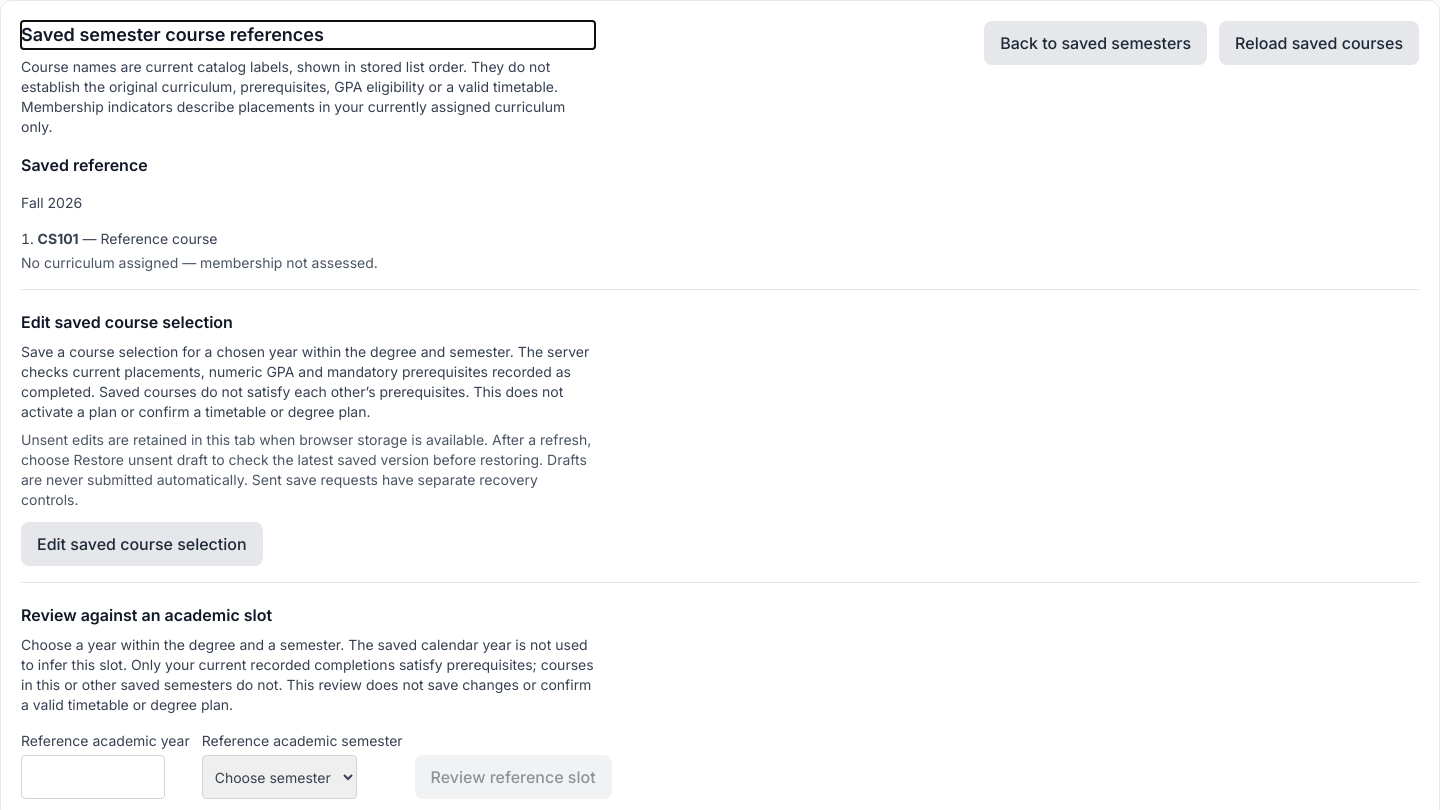
Test: saved semester course references › mounts review only after confirmed references and hides all evidence on session invalidation
Expected: the text "CS101 — Reference course" is shown, [38,230,218,247]
Type "2" into the number field labelled "Reference academic year" at coordinates (93, 777), box [21,755,165,799]
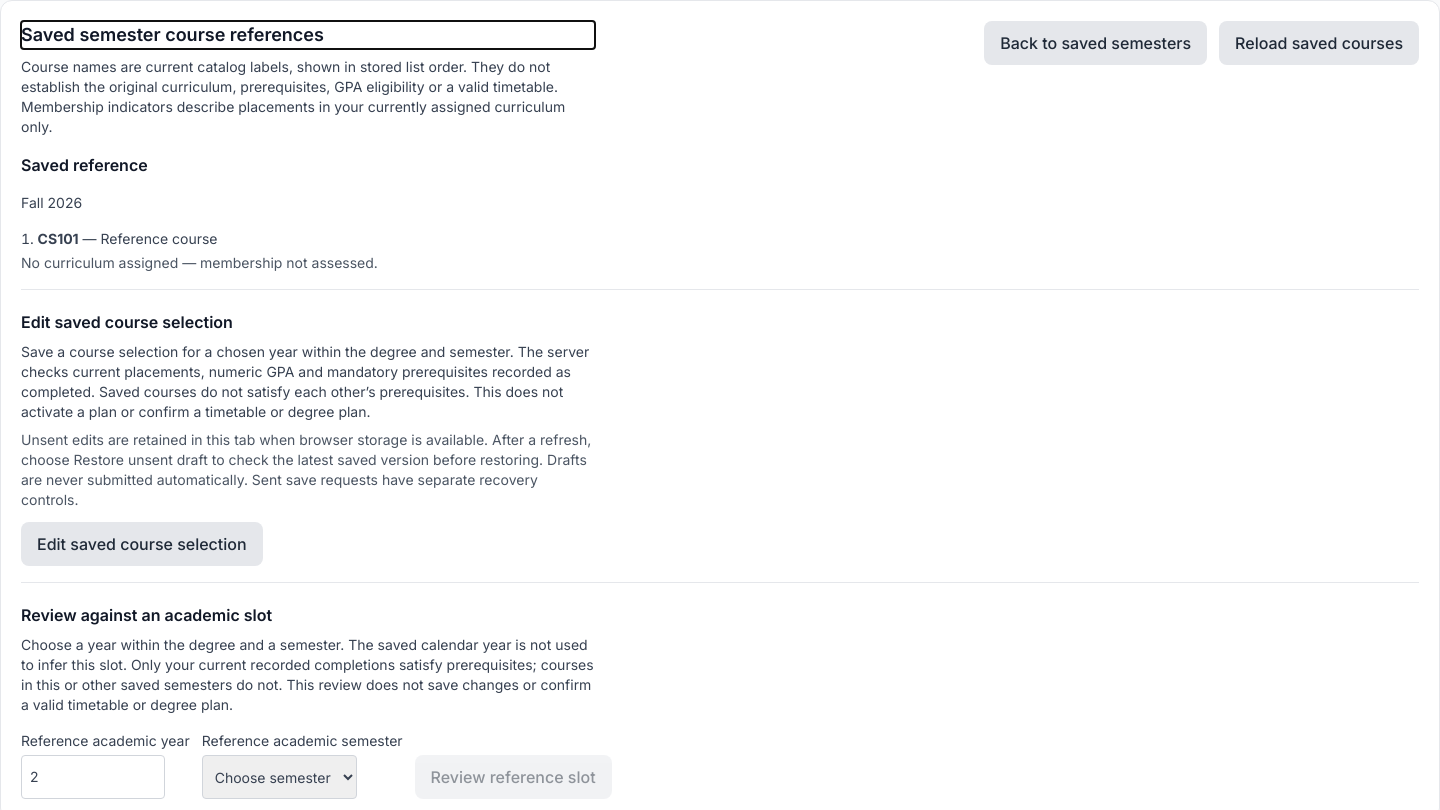
Select "Semester 1" in the dropdown labelled "Reference academic semester" at coordinates (279, 777), box [202,755,357,799]
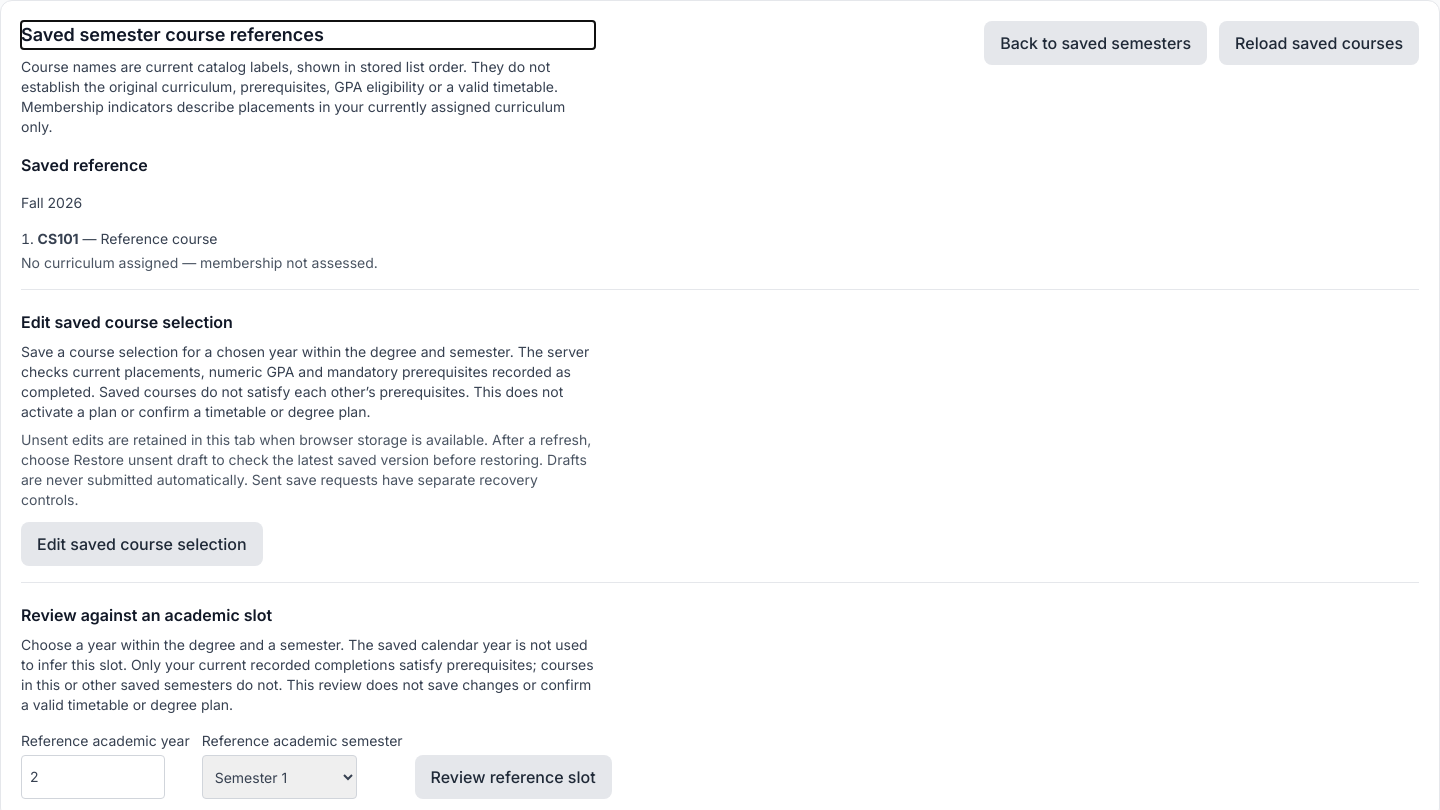
Click the button "Review reference slot" at coordinates (513, 777), box [415,755,612,799]
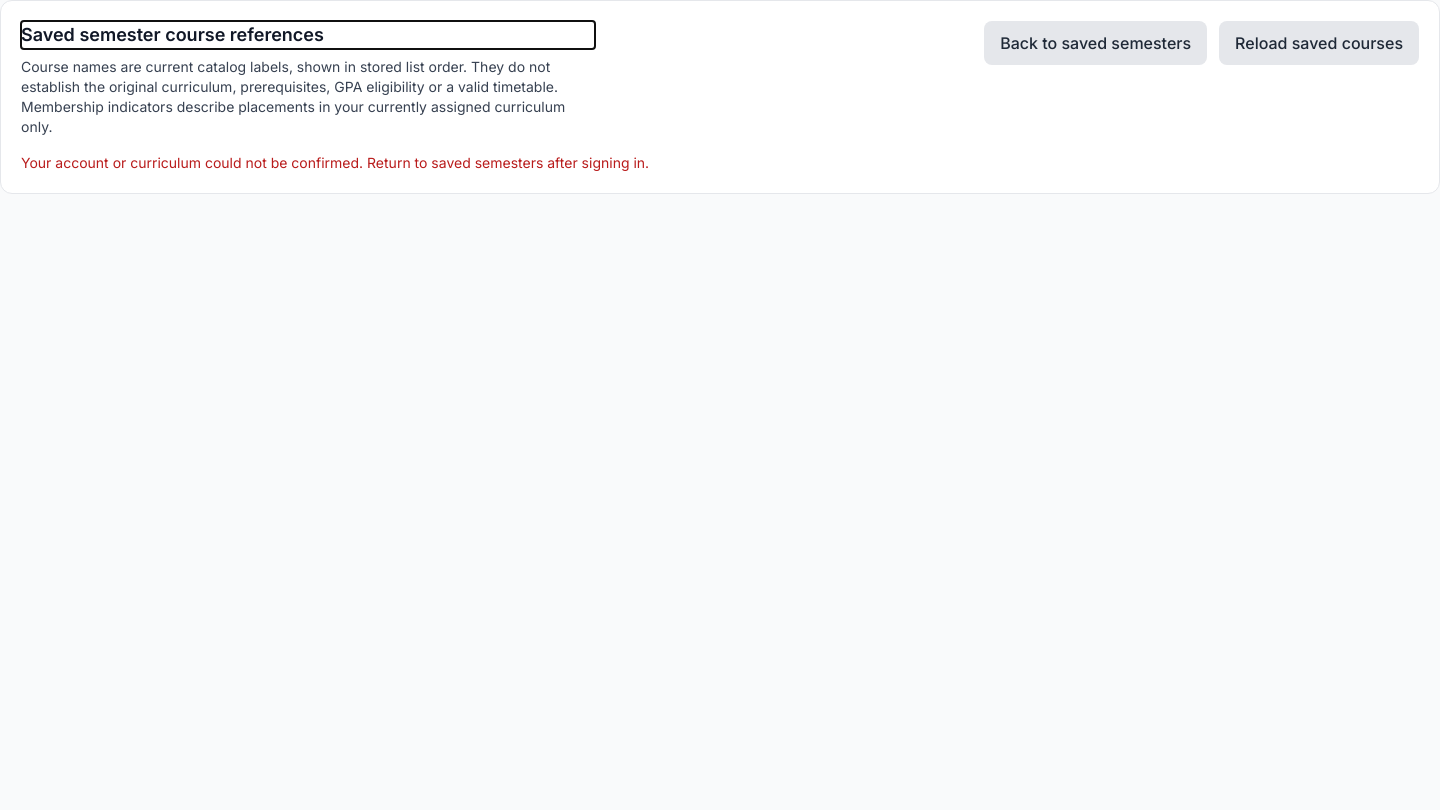
Expected: the message is shown, [21,154,649,171]
Expected: the text "Reference course" is gone
